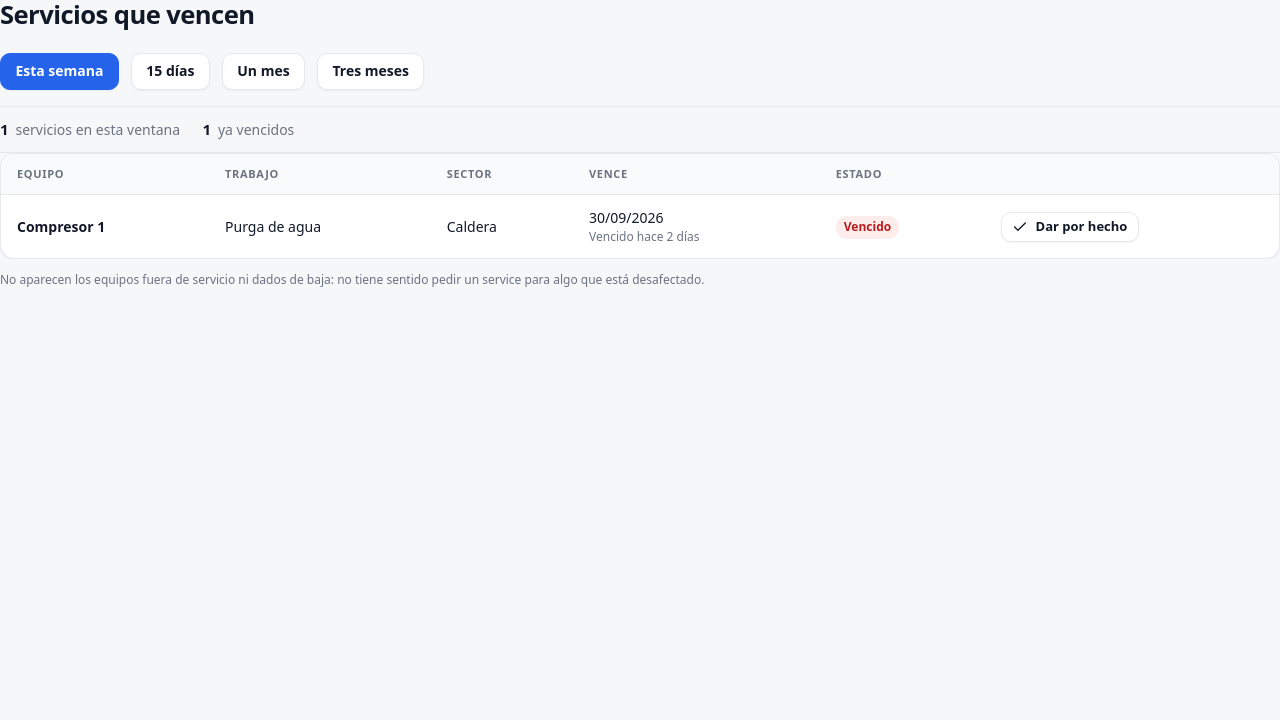
Scenario: Servicios — dar un service por hecho › abre la misma tarea del calendario para darla por hecha
This screenshot has width=1280, height=720.
Click the button "Dar por hecho" at (1070, 227), box [1001,212,1139,242]
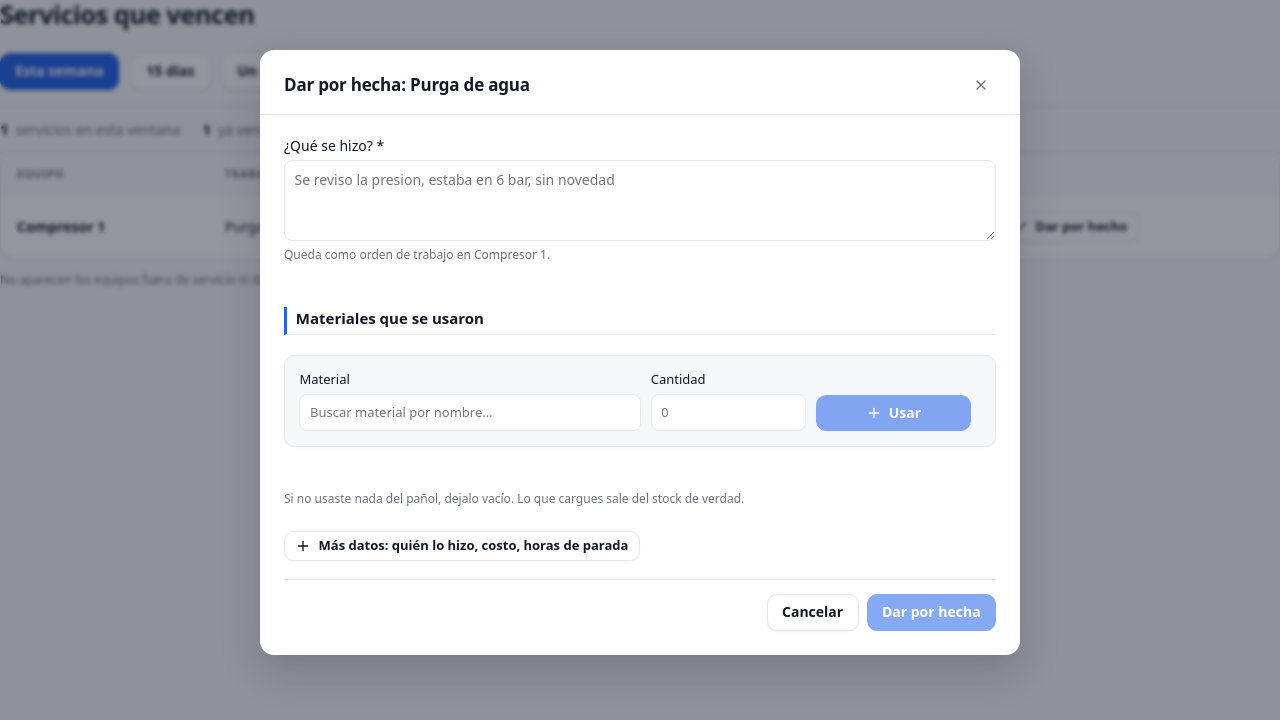
Now the heading "Dar por hecha: Purga de agua" is shown, box [284,72,530,98]
